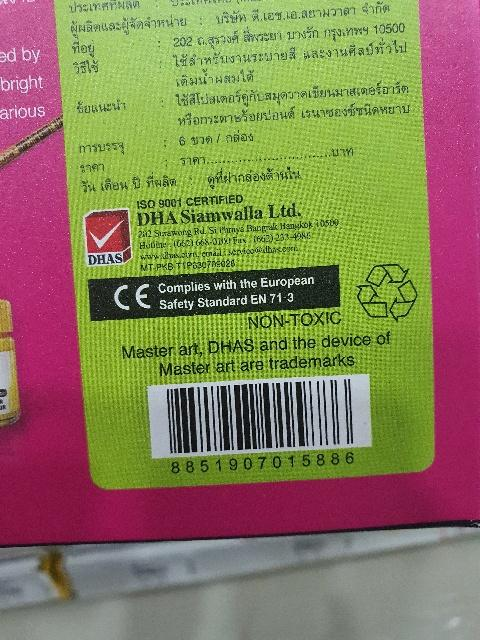Barcode: (143, 373, 376, 482)
